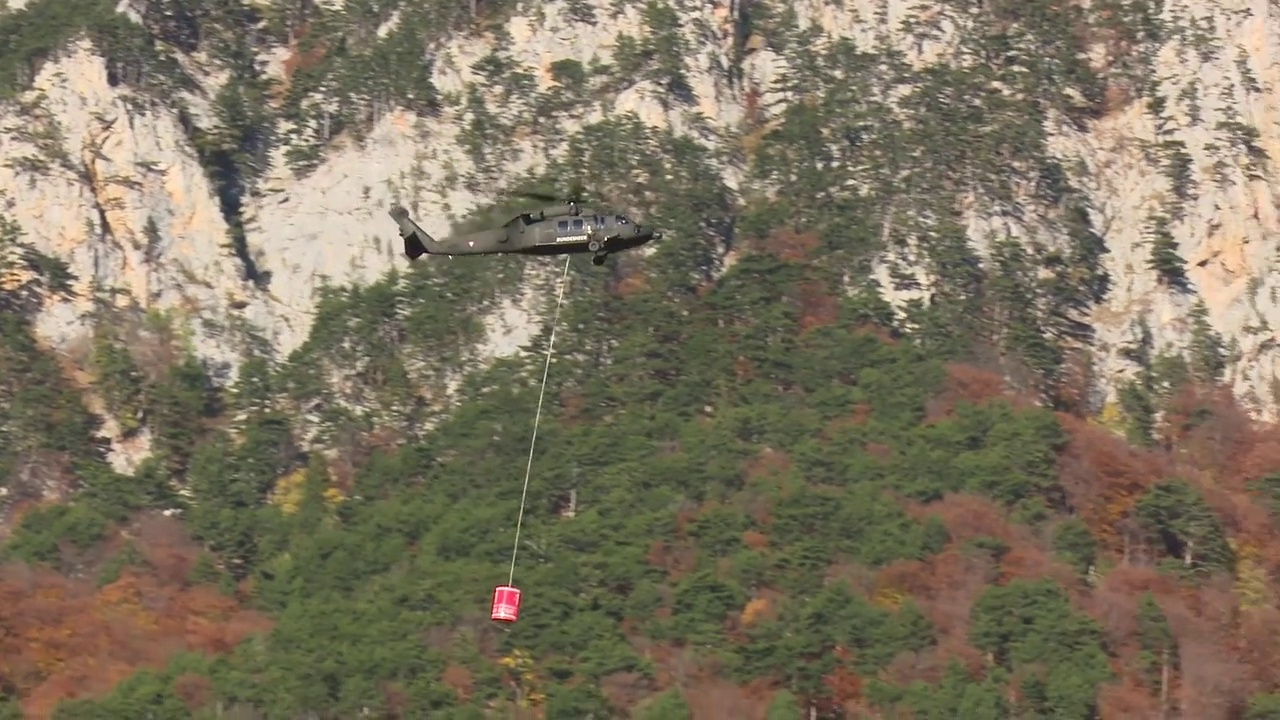heli: (398, 187, 662, 264)
